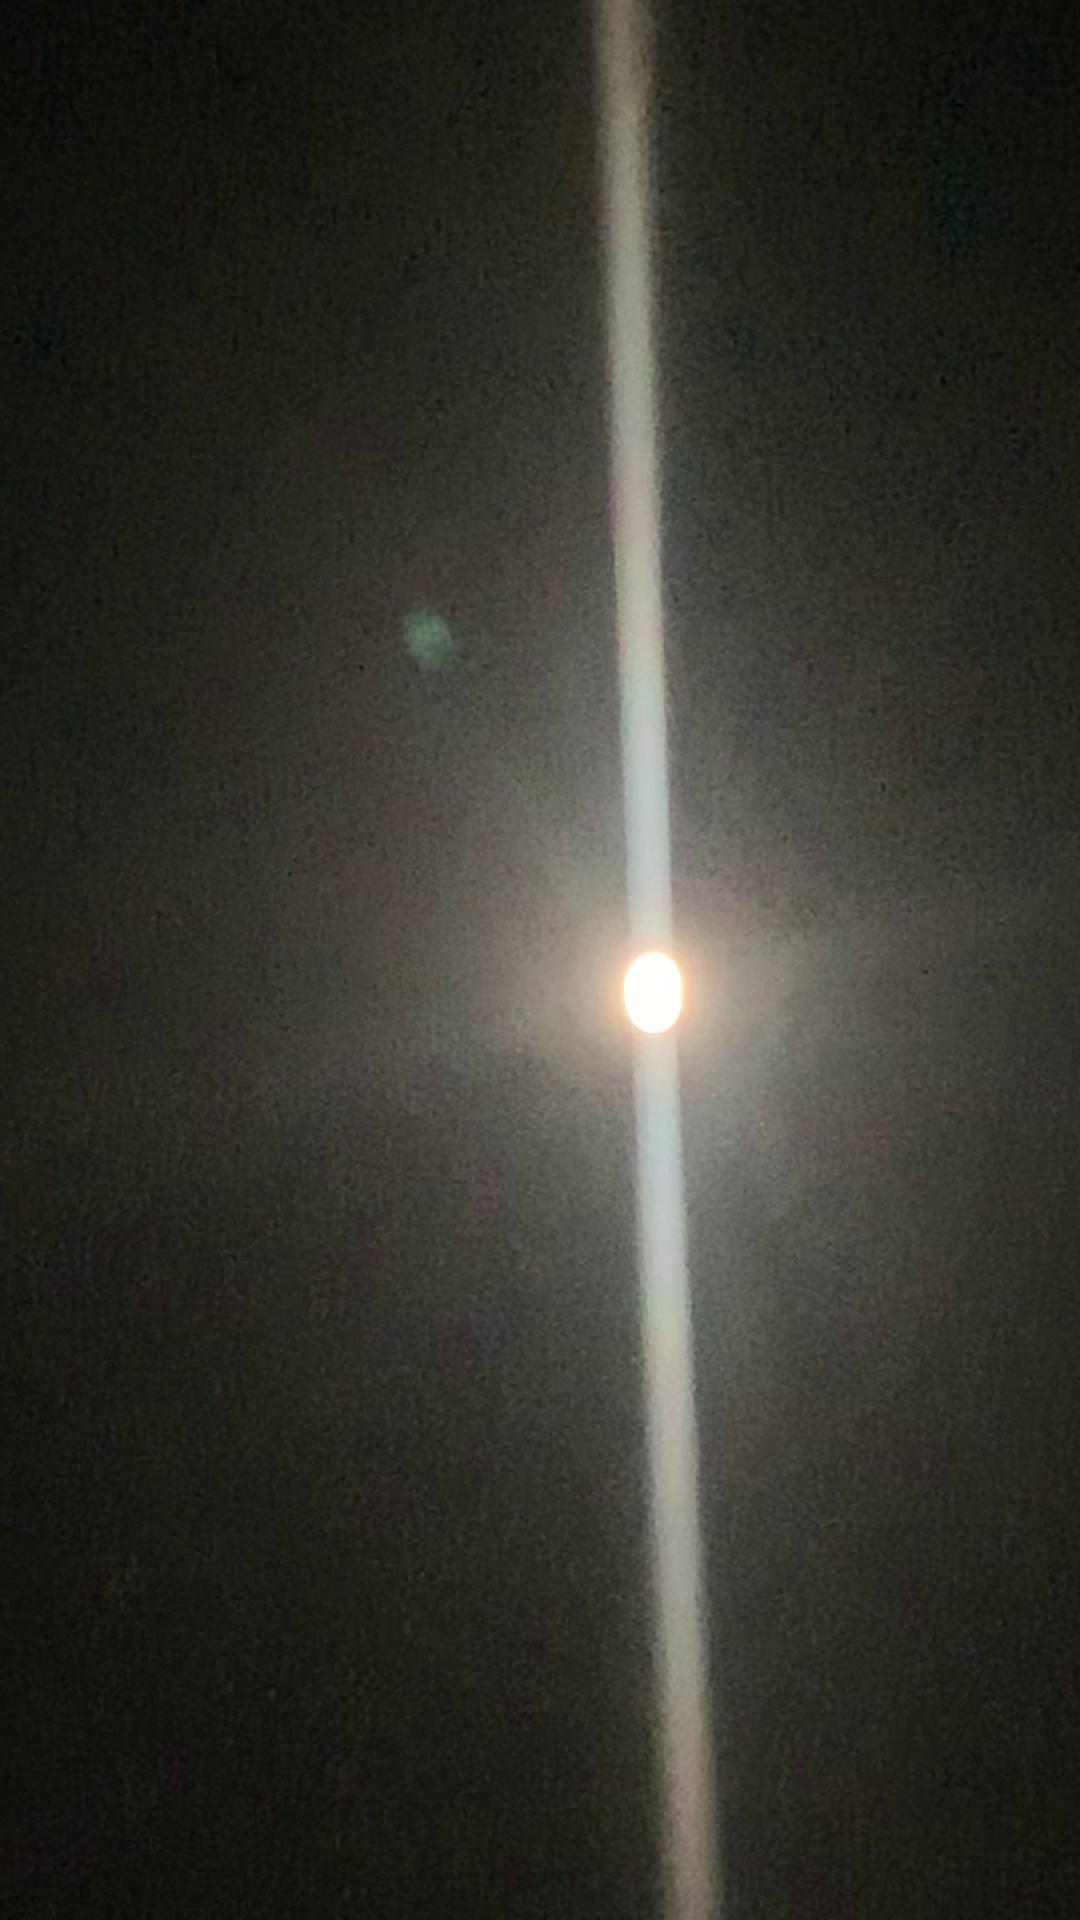moon: (604, 942, 709, 1048)
